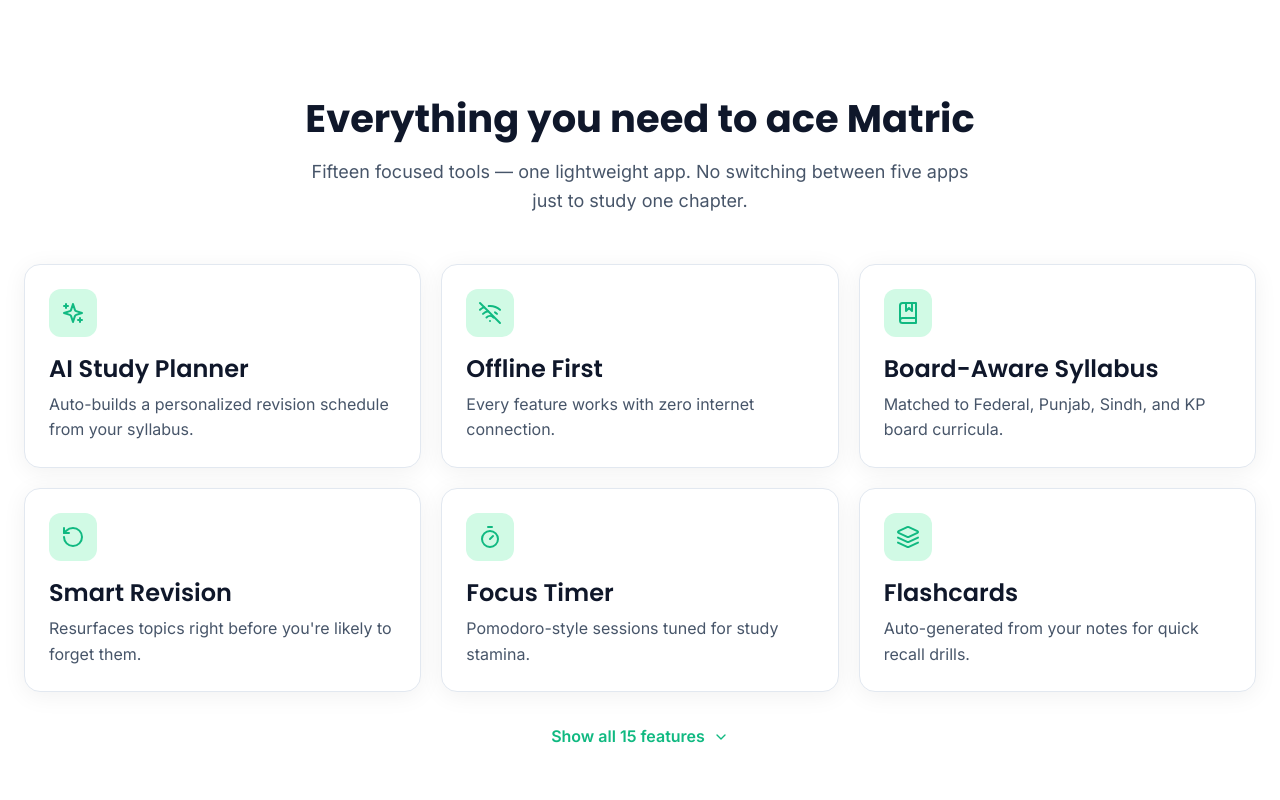
Test: Features › shows all 15 features when expanded
Click the button "Show all 15 features": point(640, 737) [551,724,729,750]
(page scrolled)
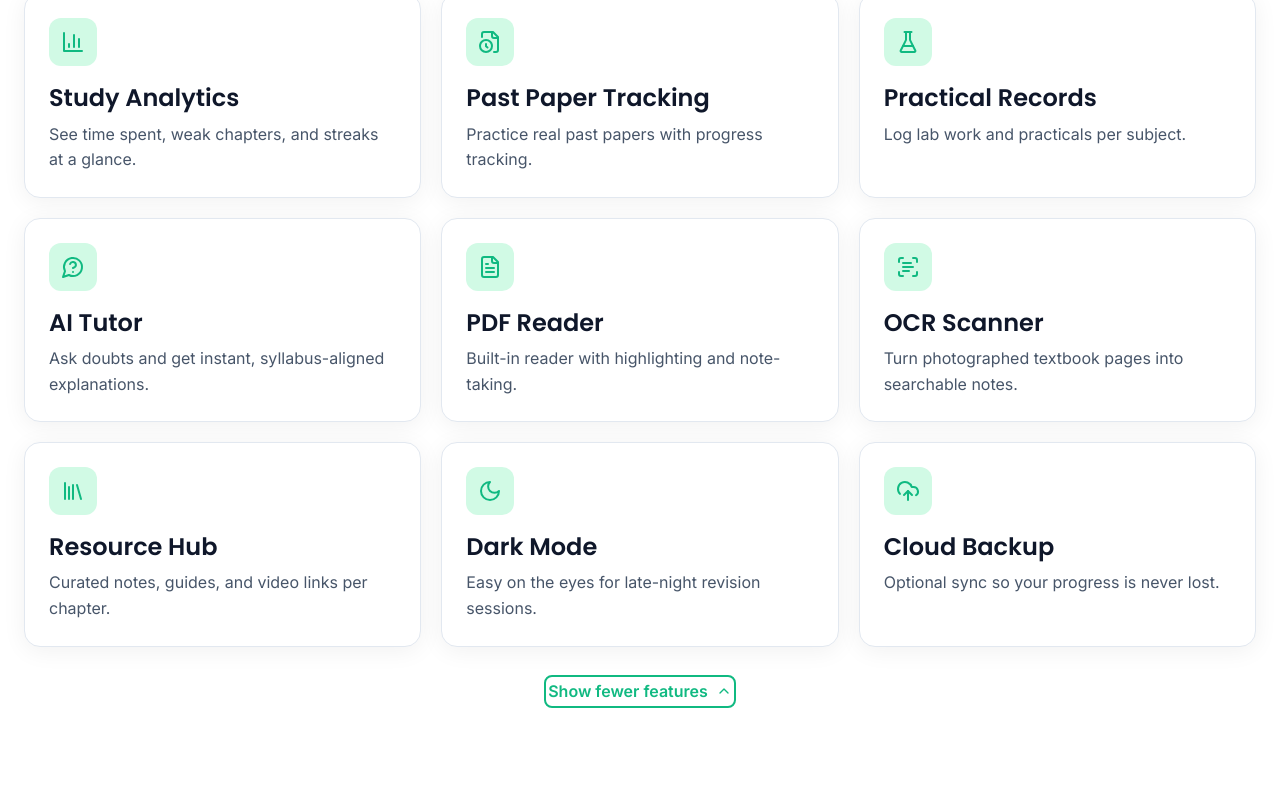
Result: the heading "Study Analytics" is shown at [49,81,239,114]
Result: the heading "Past Paper Tracking" is shown at [466,81,710,114]
Result: the heading "Practical Records" is shown at [884,81,1097,114]
